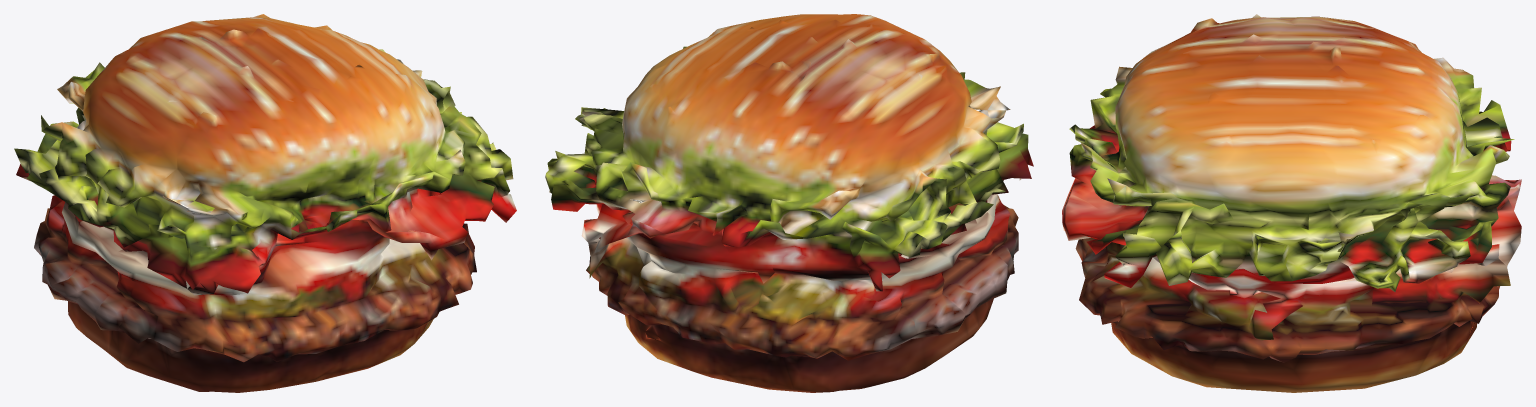
Rendered from Whopper.fbx.
3 renders of one model, left to right at view 1: azimuth 30°, elevation 25°; view 2: azimuth 150°, elevation 25°; view 3: azimuth 270°, elevation 25°, orthographic. The views are drawn at different scales.
Visible parts, largest first — view 1: Mesh1.0; view 2: Mesh1.0; view 3: Mesh1.0.
Part boxes in pixels (x1,y1,x2,y2): Mesh1.0: (14, 14, 516, 392); Mesh1.0: (545, 14, 1033, 392); Mesh1.0: (1062, 14, 1521, 392).
Size of the model in its own units: 200 by 133 by 198.
1 material, 1 textured.
